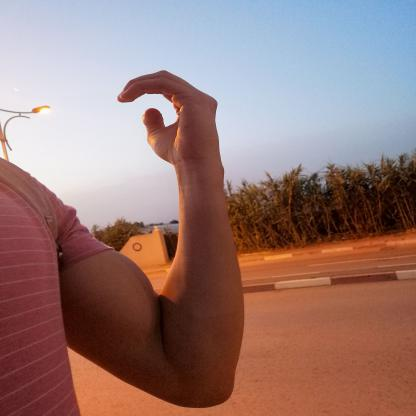JEEM: (106, 63, 237, 172)
